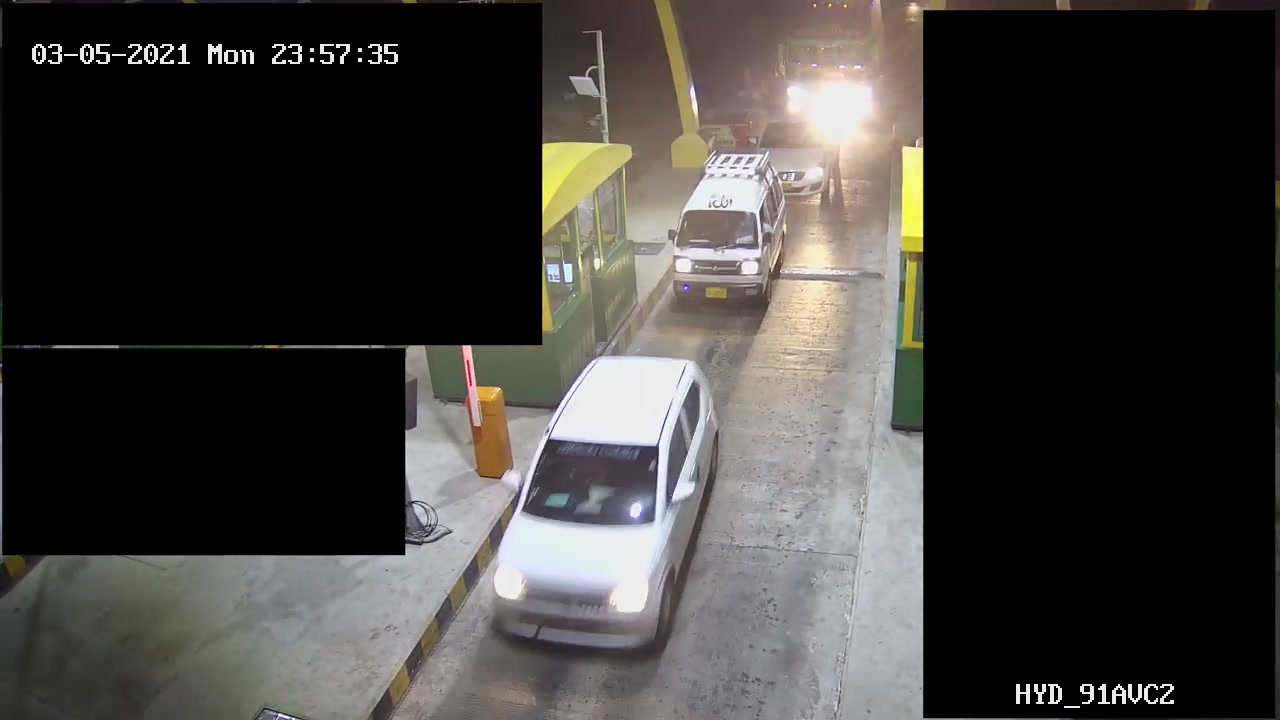F1: (485, 347, 736, 644), (658, 149, 781, 312)
